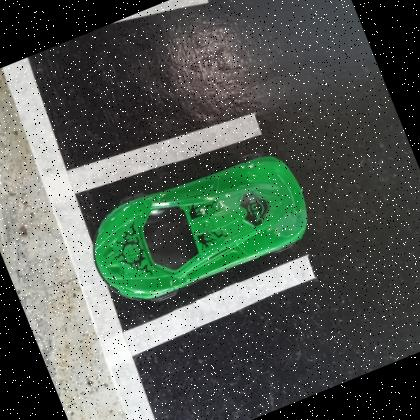Car: (93, 156, 309, 302)
